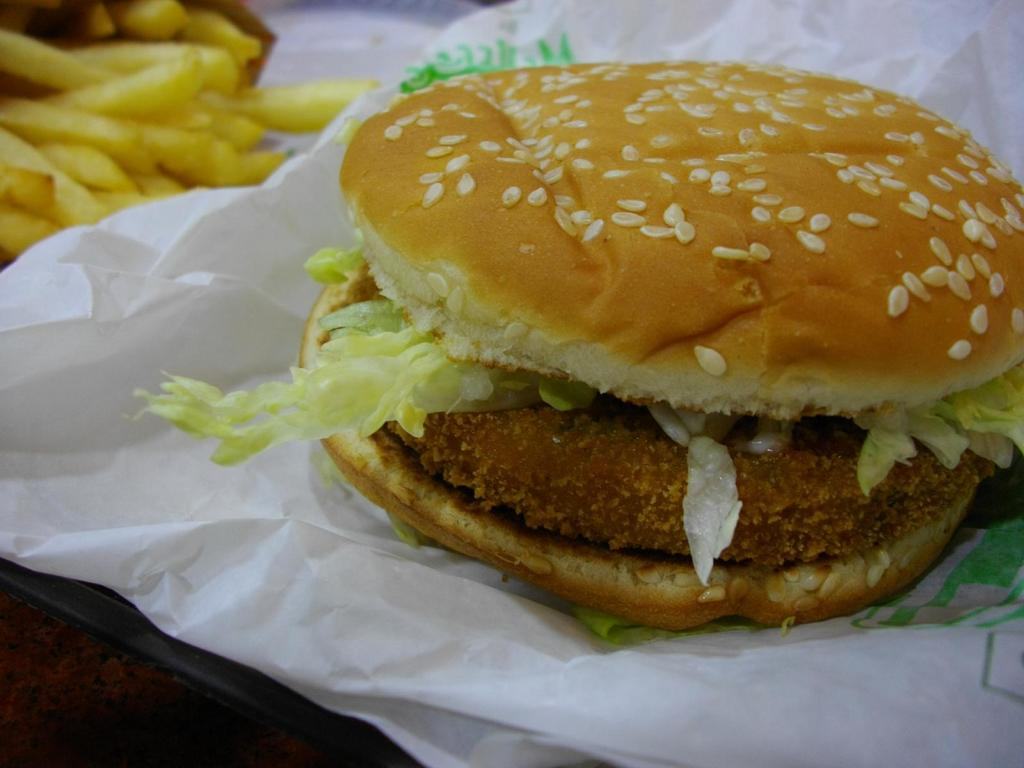French fries: (0, 1, 355, 193)
